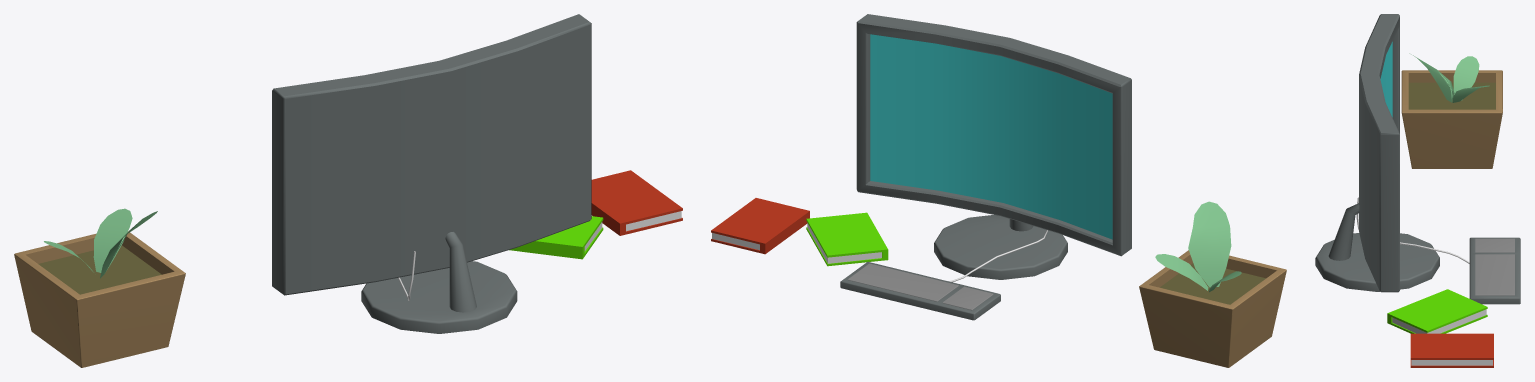
File: Pc_with_bigscreen.fbx
The picture shows the model from 3 angles, left to right: view 1: azimuth 30°, elevation 25°; view 2: azimuth 150°, elevation 25°; view 3: azimuth 270°, elevation 25°; orthographic projection. The views are drawn at different scales.
Parts seen in each view (by area): view 1: Medium_screen, Small_vase, Book, Book1; view 2: Medium_screen, Small_vase, Board, Book, Book1; view 3: Medium_screen, Small_vase, Board, Book1, Book.
Part boxes in pixels (x1,y1,x2,y2): Medium_screen: (272,14,591,333); Small_vase: (14,208,185,367); Book: (591,170,682,235); Book1: (509,216,603,259); Medium_screen: (856,14,1131,279); Small_vase: (1139,201,1286,367); Board: (840,230,1047,320); Book: (711,198,809,254); Book1: (806,212,888,266); Medium_screen: (1315,14,1439,292); Small_vase: (1401,53,1502,168); Board: (1356,197,1520,304); Book1: (1387,289,1487,333); Book: (1410,333,1493,367).
Bounding box in the file's own units: 4.03 × 1.52 × 1.47.
